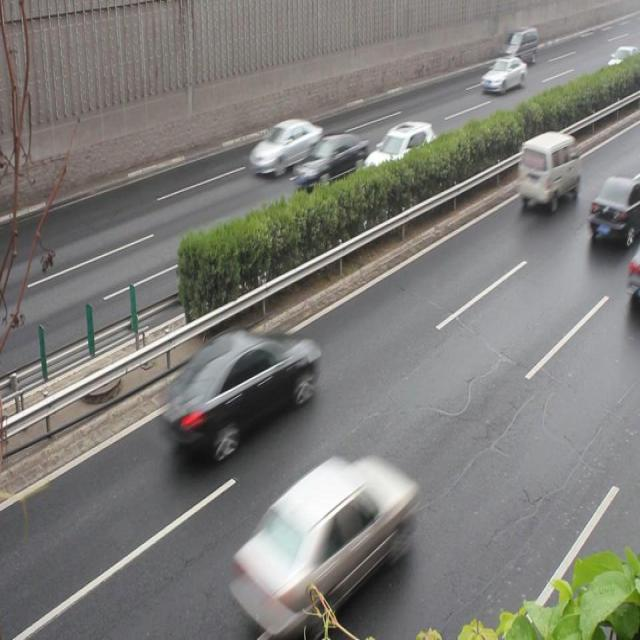car: (236, 454, 412, 625), (164, 331, 314, 450), (363, 121, 439, 184), (293, 132, 368, 188), (250, 119, 321, 175), (588, 173, 640, 249), (480, 55, 525, 94)
truck: (516, 130, 578, 209)
